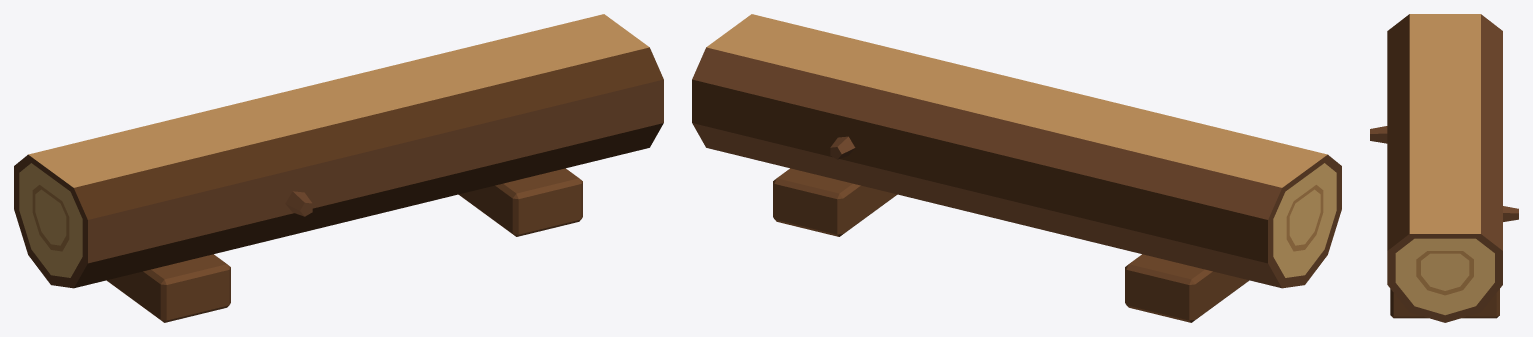
The model's file is Prop_LogBench.fbx.
3 renders of one model, left to right at view 1: azimuth 30°, elevation 25°; view 2: azimuth 150°, elevation 25°; view 3: azimuth 270°, elevation 25°, orthographic. The views are drawn at different scales.
Visible parts, largest first — view 1: Prop_LogBench; view 2: Prop_LogBench; view 3: Prop_LogBench.
Part boxes in pixels (box(x1,y1,x2,y2)): Prop_LogBench: box(14, 14, 663, 322); Prop_LogBench: box(692, 14, 1341, 322); Prop_LogBench: box(1370, 14, 1518, 322).
Bounding box in the file's own units: 1.8 × 0.44 × 0.515.
